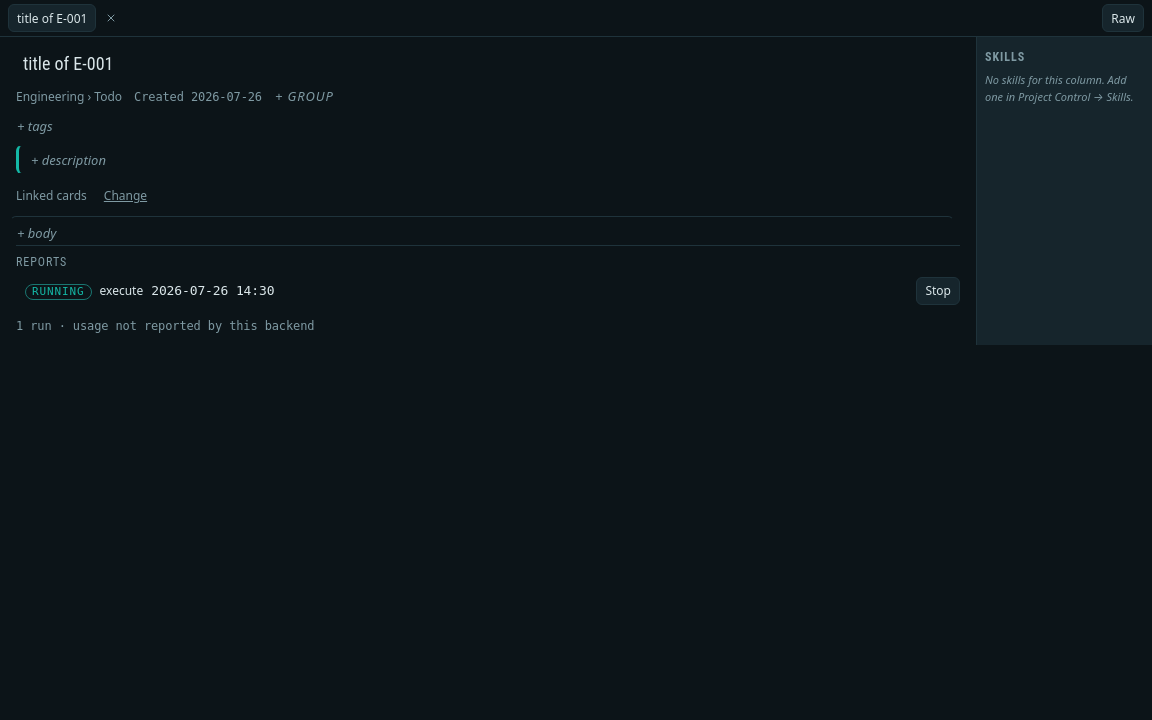
Test: CardsPane › asks before stopping a run, and stops nothing while the question is open
Step 1. Click the button "Stop" → {"x": 938, "y": 291}, box [916,277,960,305]
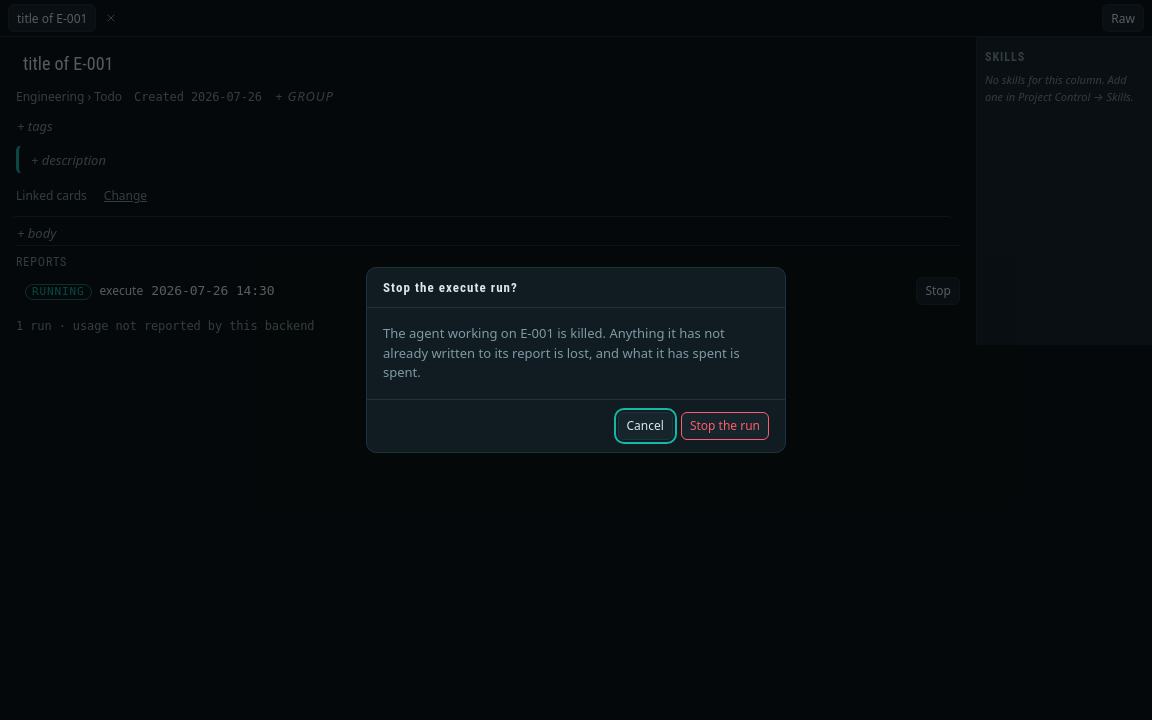
Expected: the text "Stop the execute run?" is shown, [383,280,518,295]
Step 2. Click the button "Cancel" → {"x": 645, "y": 426}, box [618,412,673,440]
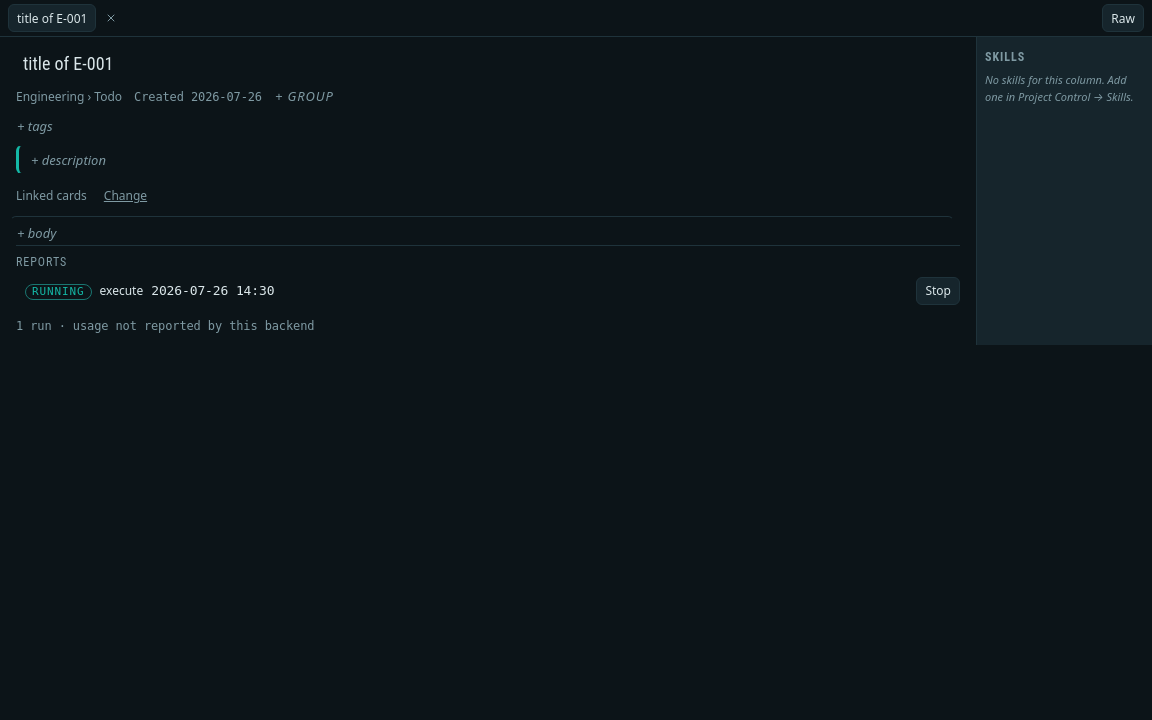
Expected: the dialog is gone
